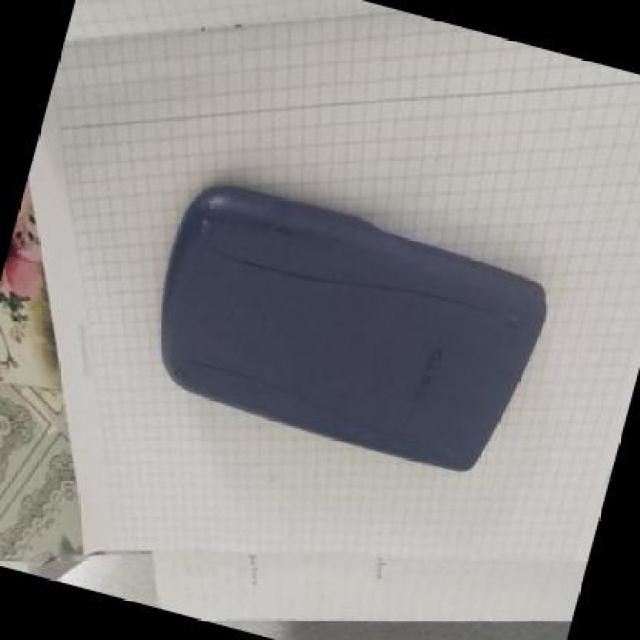Calculator: (132, 169, 558, 488)
